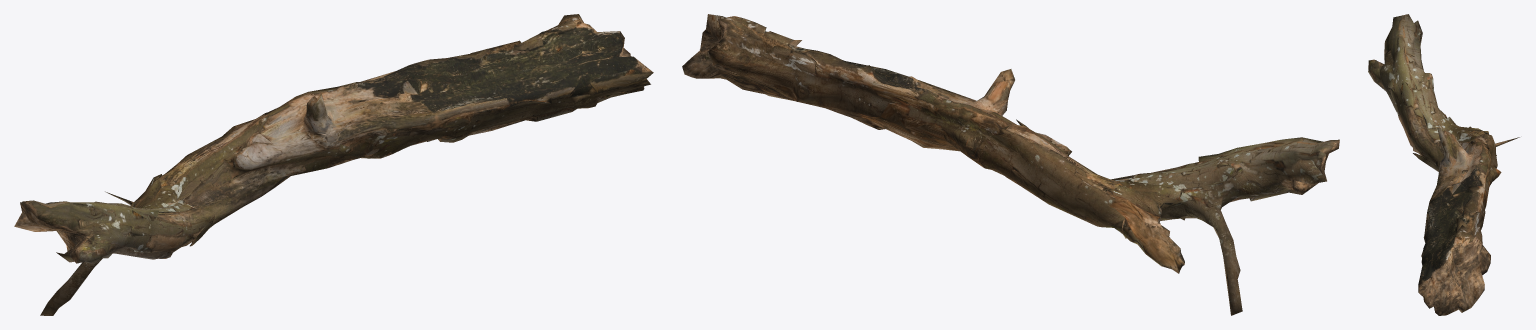
File: tronco_dos.glb
The picture shows the model from 3 angles, left to right: view 1: azimuth 30°, elevation 25°; view 2: azimuth 150°, elevation 25°; view 3: azimuth 270°, elevation 25°; orthographic projection. The views are drawn at different scales.
Parts seen in each view (by area): view 1: dead_tree_trunk_02_LOD0; view 2: dead_tree_trunk_02_LOD0; view 3: dead_tree_trunk_02_LOD0.
Boxes of the visible parts, <box> form: dead_tree_trunk_02_LOD0: <box>14,14,653,315</box>; dead_tree_trunk_02_LOD0: <box>682,14,1339,315</box>; dead_tree_trunk_02_LOD0: <box>1368,14,1519,315</box>.
Size of the model in its own units: 4.04 by 1.05 by 1.03.
1 material, 1 textured.
